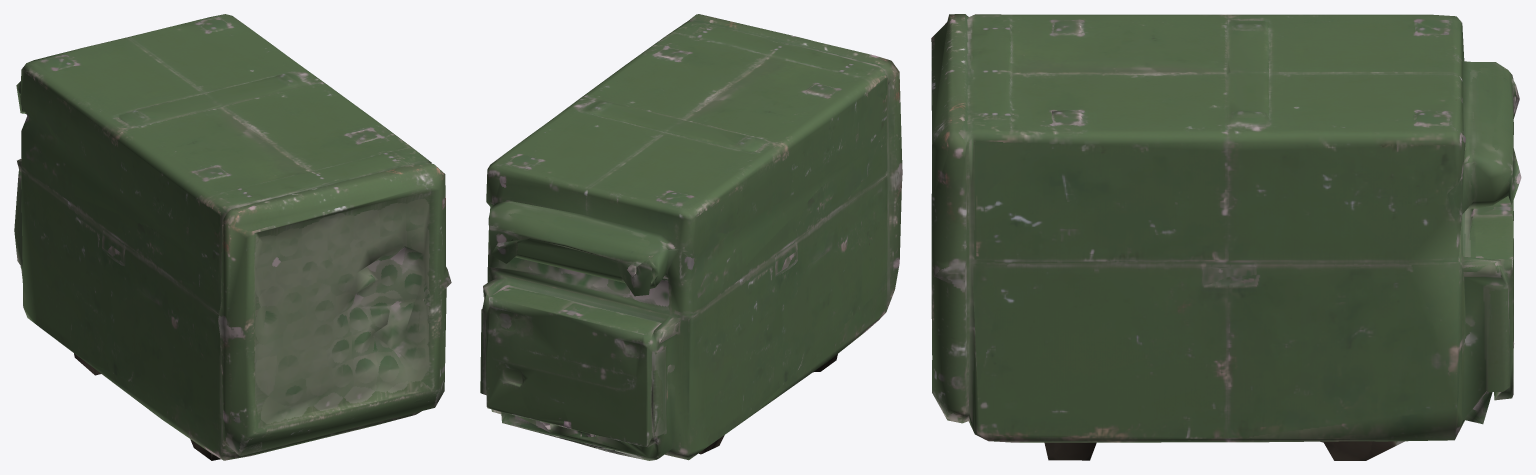
Rendered from shoulder-b-1.glb.
The picture shows the model from 3 angles, left to right: view 1: azimuth 30°, elevation 25°; view 2: azimuth 150°, elevation 25°; view 3: azimuth 270°, elevation 25°; orthographic projection. The views are drawn at different scales.
Parts seen in each view (by area): view 1: Body; view 2: Body; view 3: Body.
Boxes of the visible parts, box(x1,y1,x2,y2) form: Body: box(14, 14, 451, 460); Body: box(480, 14, 902, 460); Body: box(931, 14, 1521, 460).
Size of the model in its own units: 0.3179 by 0.3874 by 0.6.
Materials: 1 (1 with a texture image).
